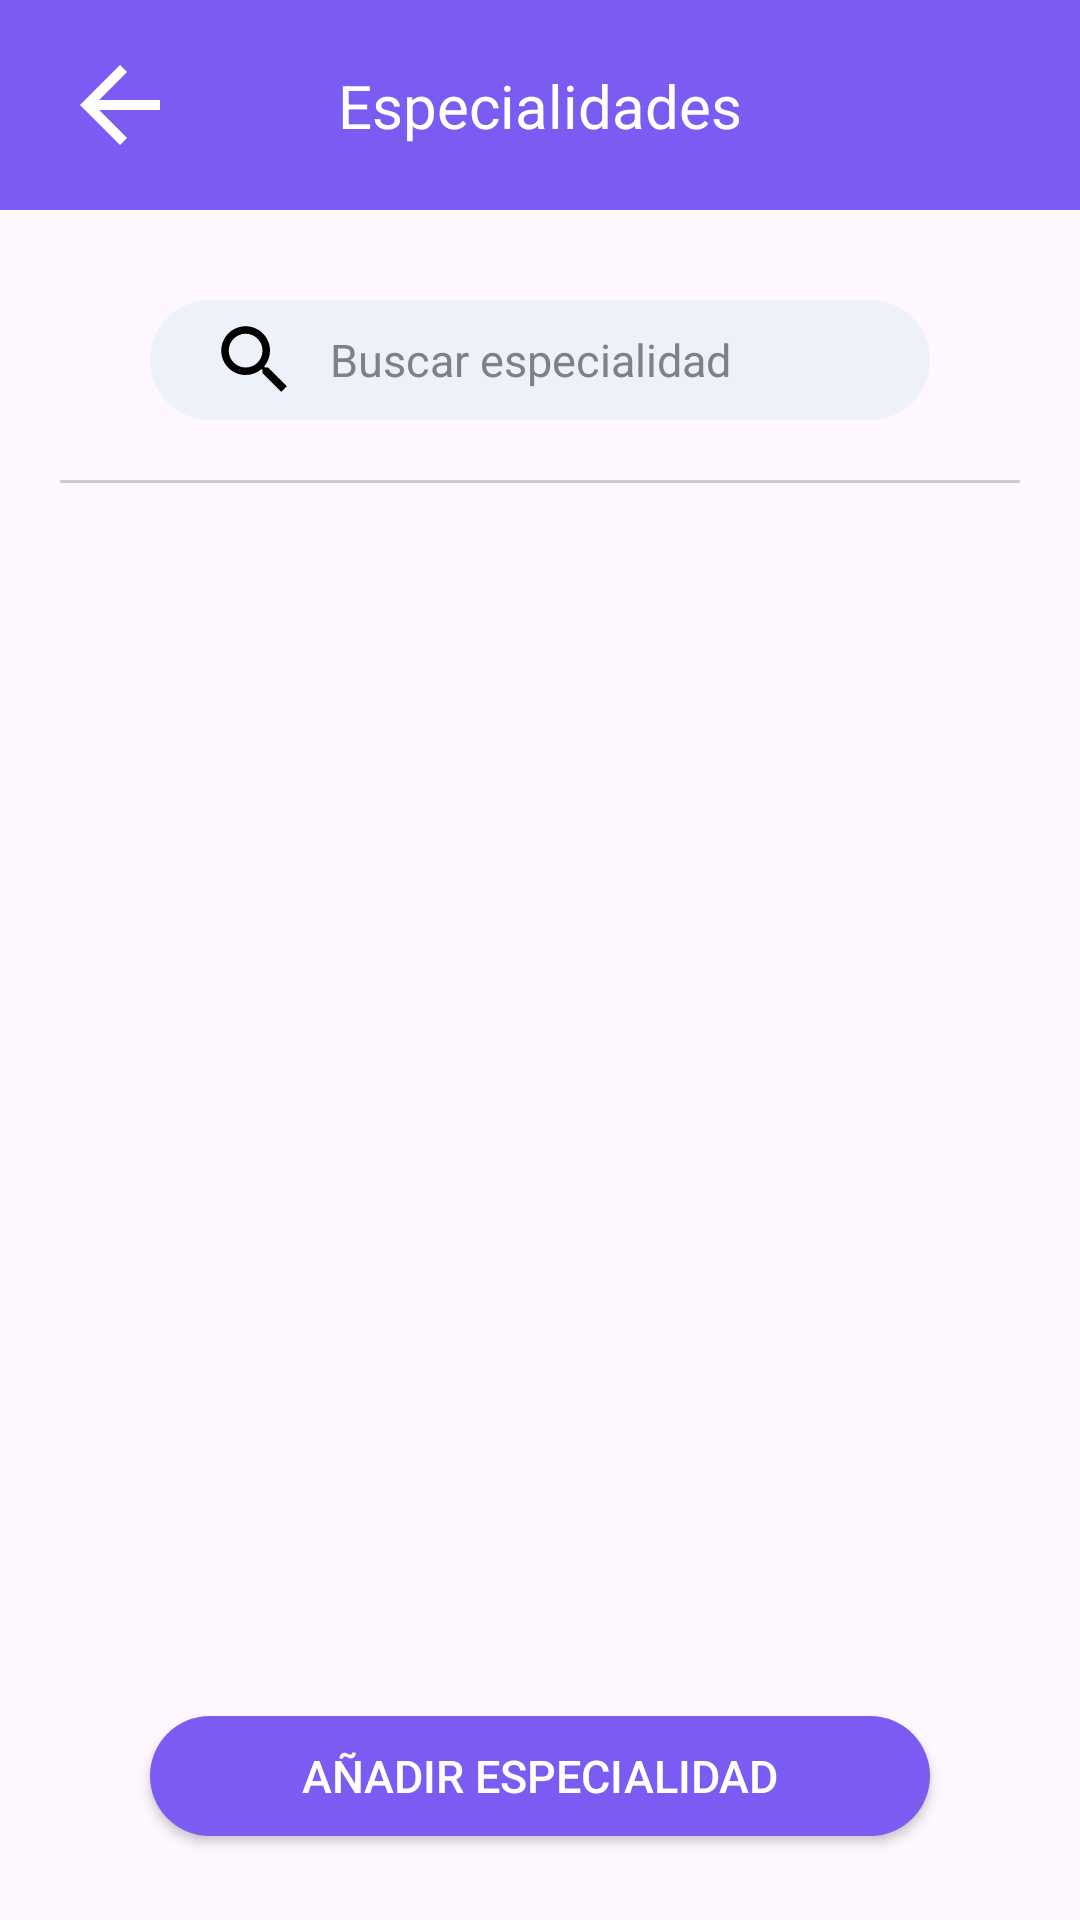

Icon click points for this 1080px x 1920px phone screenshot, format [x,y]:
back arrow: [120,105]
